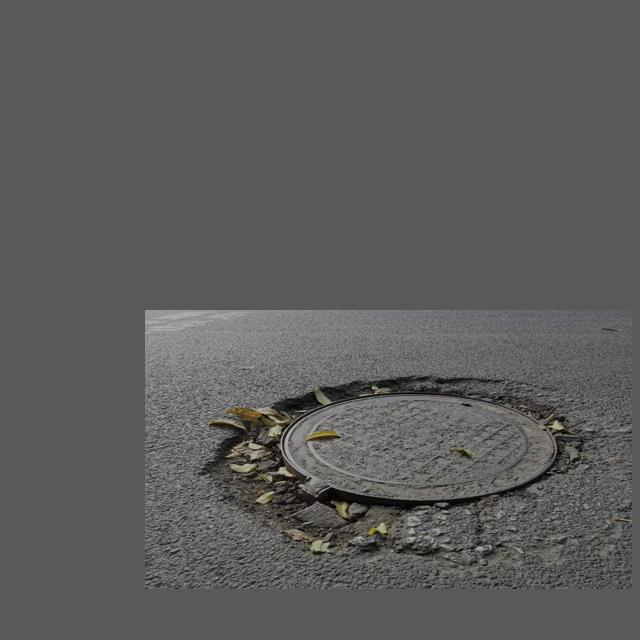circle: (211, 375, 622, 558)
